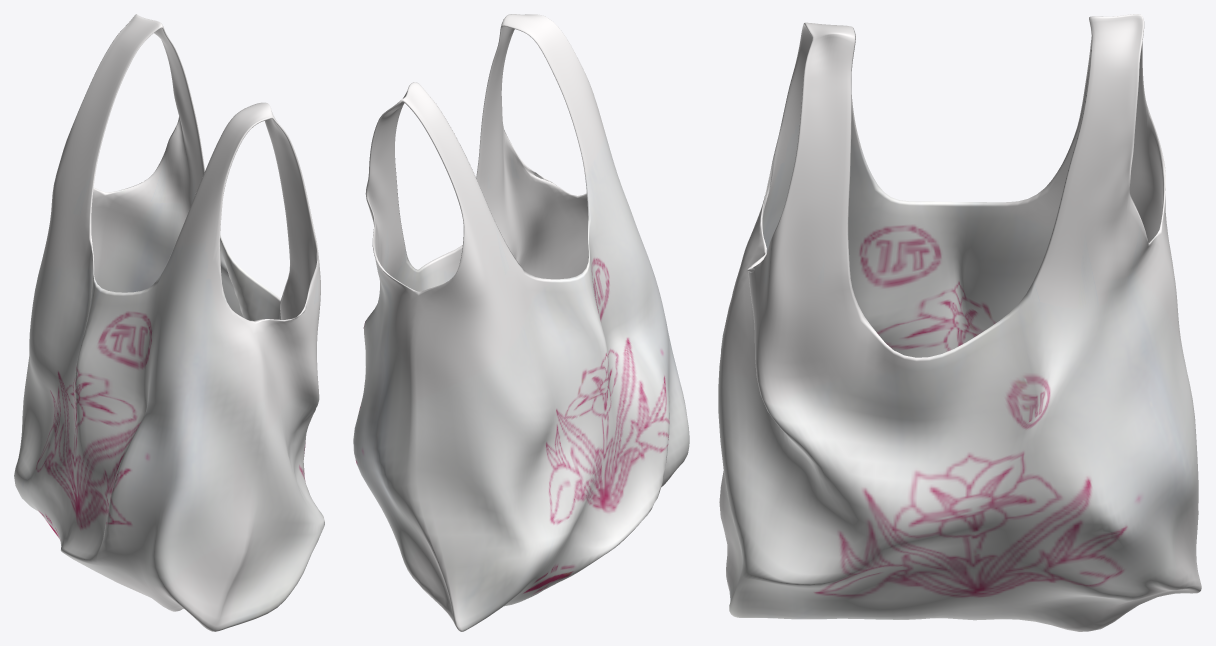
File: plasticBag.fbx
The picture shows the model from 3 angles, left to right: view 1: azimuth 30°, elevation 25°; view 2: azimuth 150°, elevation 25°; view 3: azimuth 270°, elevation 25°; orthographic projection. The views are drawn at different scales.
Parts seen in each view (by area): view 1: Object_7; view 2: Object_7; view 3: Object_7.
Part boxes in pixels (x1,y1,x2,y2): Object_7: [14, 14, 324, 631]; Object_7: [353, 14, 689, 631]; Object_7: [718, 14, 1201, 631].
Bounding box in the file's own units: 61.04 × 131 × 88.7.
